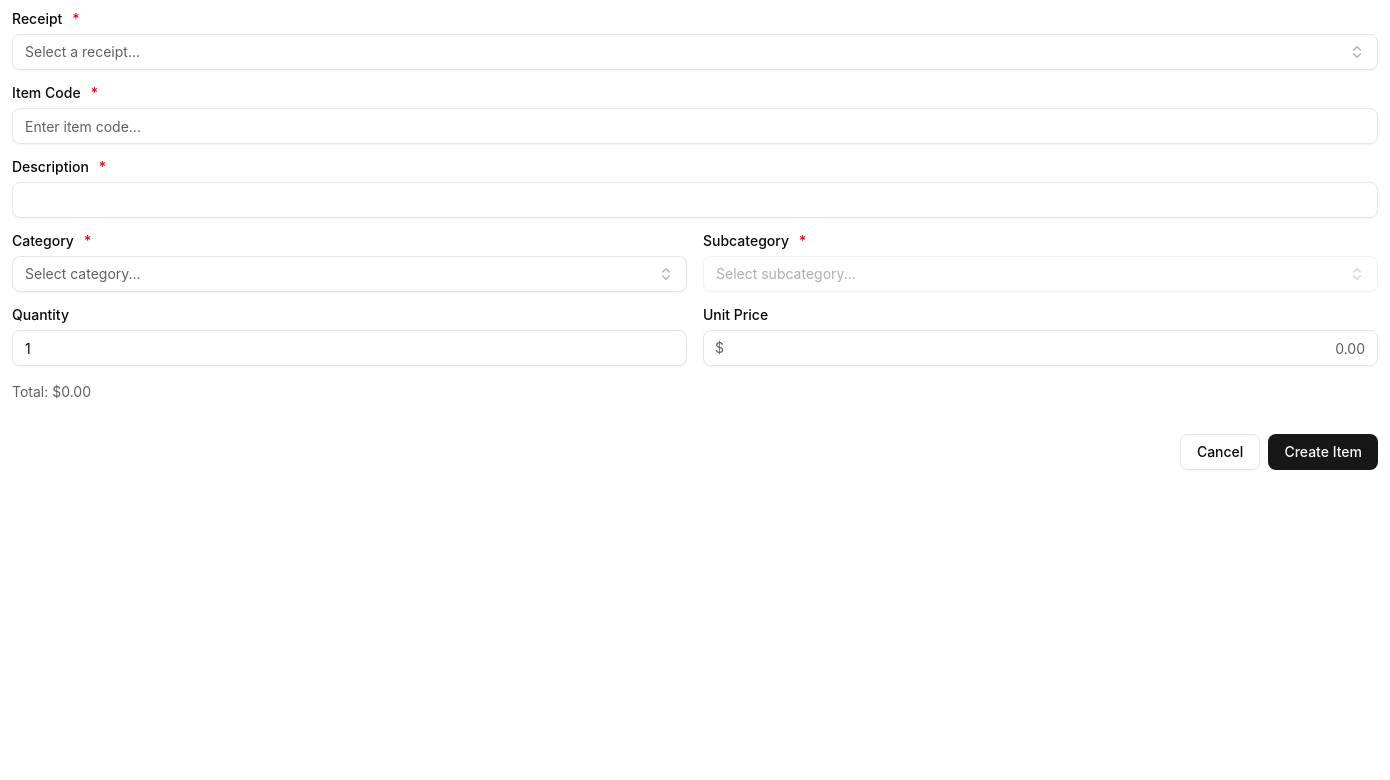
Scenario: ReceiptItemForm › shows validation errors when required fields are empty
Click the button "Create Item" at (1323, 452), box [1268, 434, 1378, 470]
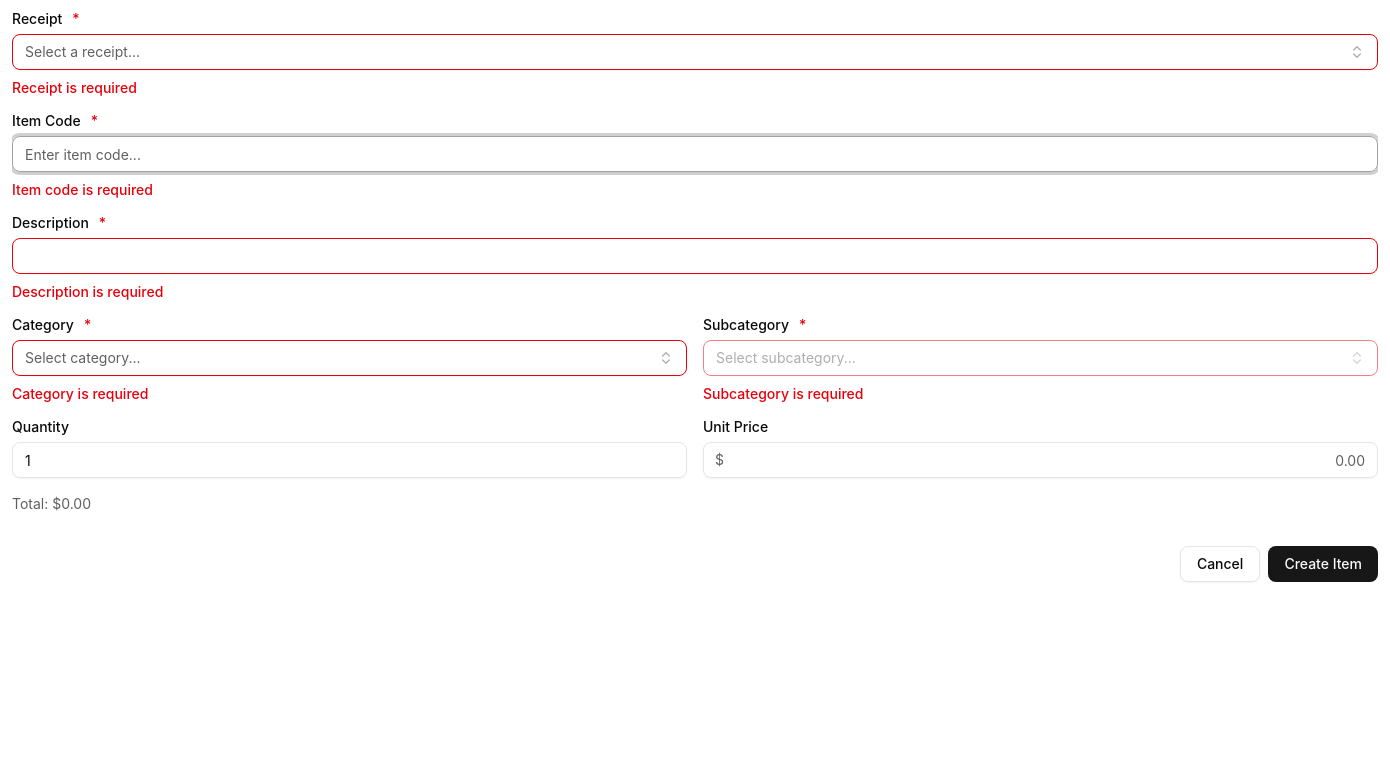
Check: the text "Receipt is required" is shown, box [12, 79, 137, 96]
Check: the text "Item code is required" is shown, box [12, 181, 153, 198]
Check: the text "Description is required" is shown, box [12, 283, 163, 300]
